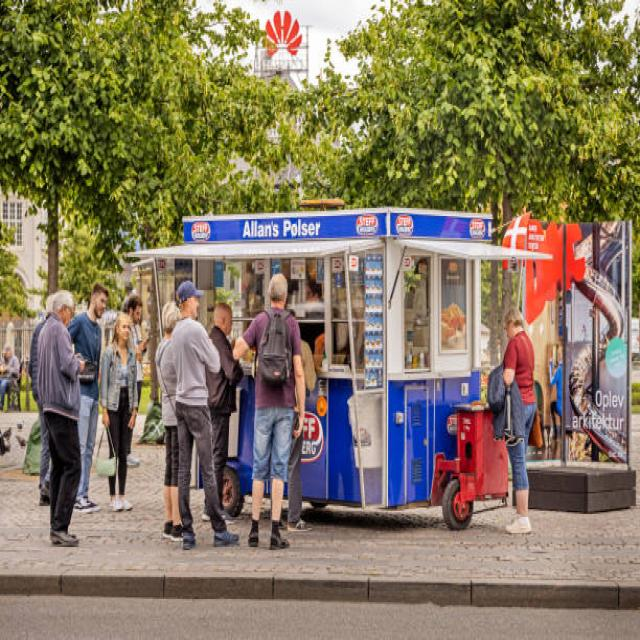Emperan: (116, 185, 586, 561)
